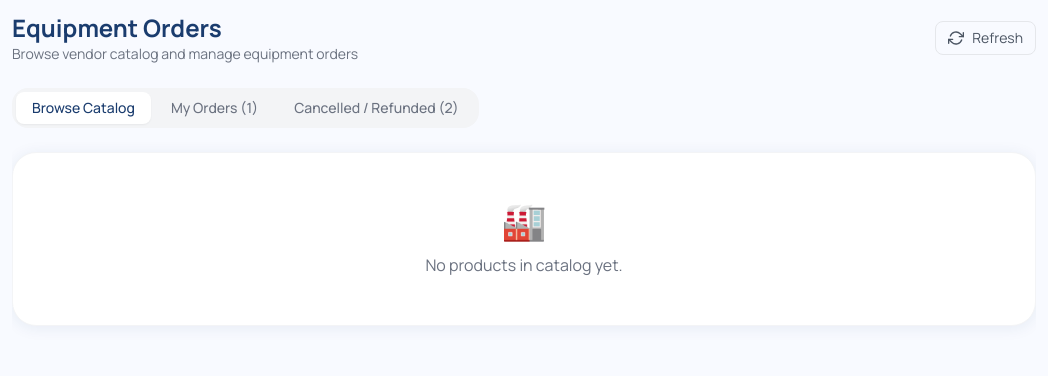
saved cancelled and refunded orders stay in their section after remounting
Later steps or results of the test are not shown.
Click the button "My Orders (1)" at x=214, y=108, box [155, 92, 274, 124]
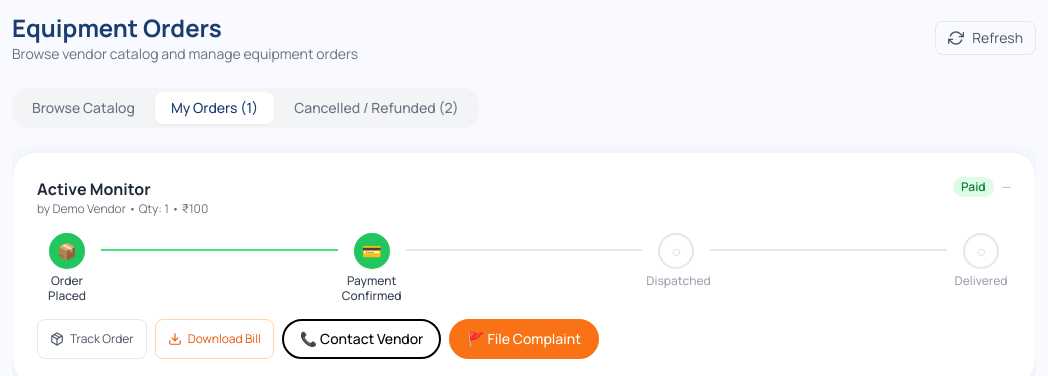
expect the heading "Active Monitor" is shown: met, box [37, 178, 150, 200]
